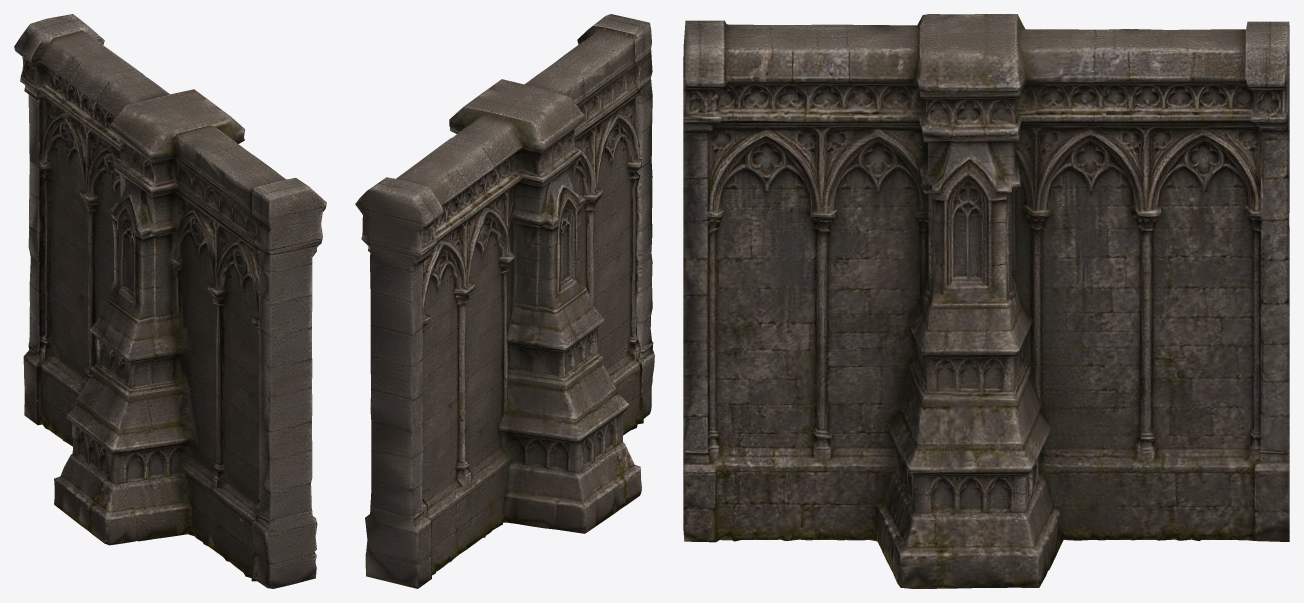
Rendered from wall_buttress.glb.
3 views of the same model, side by side, from view 1: azimuth 30°, elevation 25°; view 2: azimuth 150°, elevation 25°; view 3: azimuth 270°, elevation 25° (orthographic). The views are drawn at different scales.
Parts seen in each view (by area): view 1: tripo_node_01bac6b5-365b-447f-b9fc-ad8113eb3f9c; view 2: tripo_node_01bac6b5-365b-447f-b9fc-ad8113eb3f9c; view 3: tripo_node_01bac6b5-365b-447f-b9fc-ad8113eb3f9c.
Boxes of the visible parts, <box> form: tripo_node_01bac6b5-365b-447f-b9fc-ad8113eb3f9c: <box>14,14,326,588</box>; tripo_node_01bac6b5-365b-447f-b9fc-ad8113eb3f9c: <box>355,14,654,588</box>; tripo_node_01bac6b5-365b-447f-b9fc-ad8113eb3f9c: <box>683,14,1289,588</box>.
Bounding box in the file's own units: 0.4862 × 0.8976 × 1.
1 material, 1 textured.
